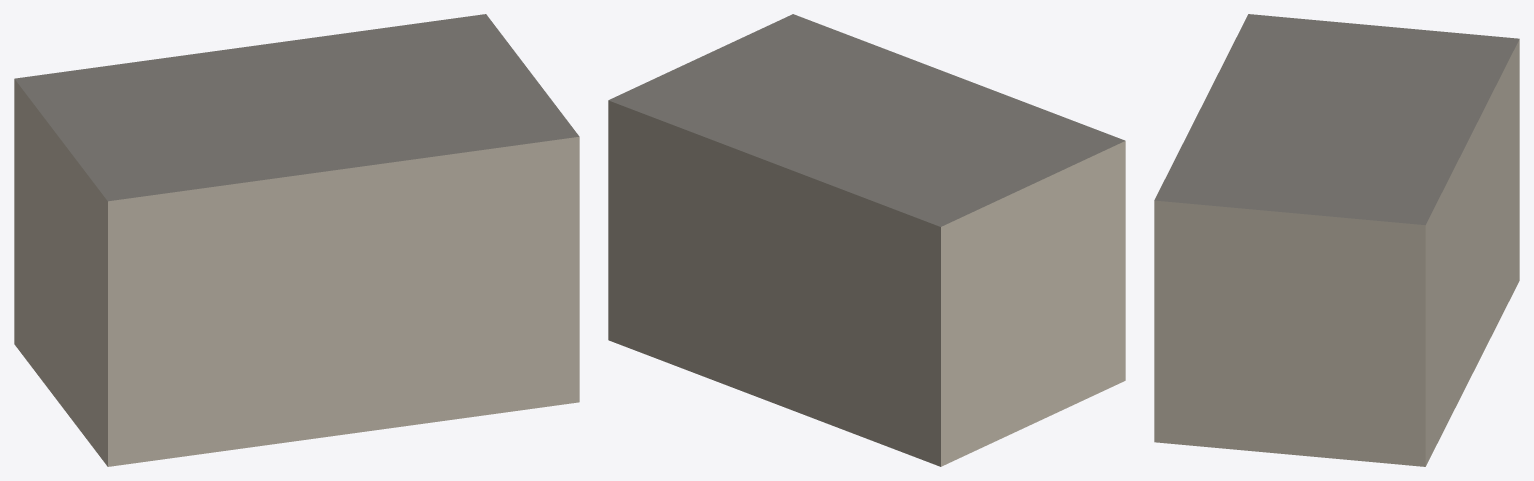
3 renders of one model, left to right at view 1: azimuth 30°, elevation 25°; view 2: azimuth 150°, elevation 25°; view 3: azimuth 270°, elevation 25°, orthographic. The views are drawn at different scales.
Parts seen in each view (by area): view 1: HP-w859488865; view 2: HP-w859488865; view 3: HP-w859488865.
Part boxes in pixels (bbox=[...]): HP-w859488865: bbox=[14, 14, 579, 466]; HP-w859488865: bbox=[608, 14, 1125, 466]; HP-w859488865: bbox=[1154, 14, 1519, 466].
Size of the model in its own units: 33.73 by 18 by 24.67.
